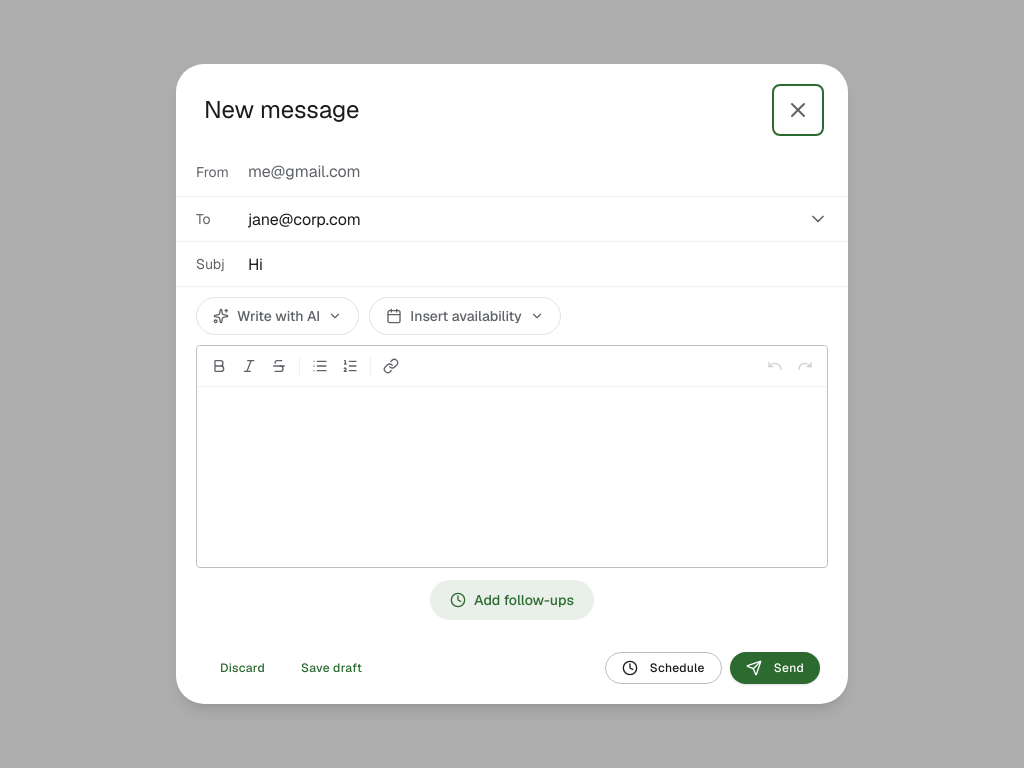
Test case: ComposeEmailModal — follow-ups + custom scheduler (CAR-120) › Schedule uses the custom date/time pickers, not a native datetime input
Click the button "Schedule": (663, 668) [605, 652, 722, 684]
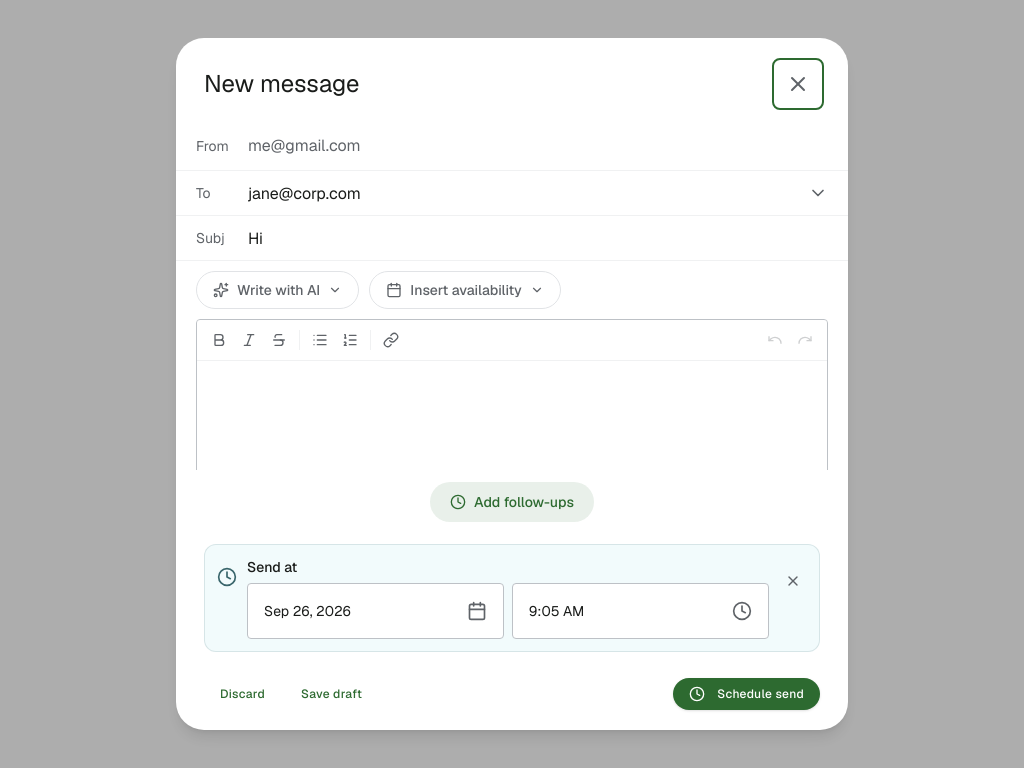
Now the button "Schedule send" is shown, box [673, 678, 820, 710]
